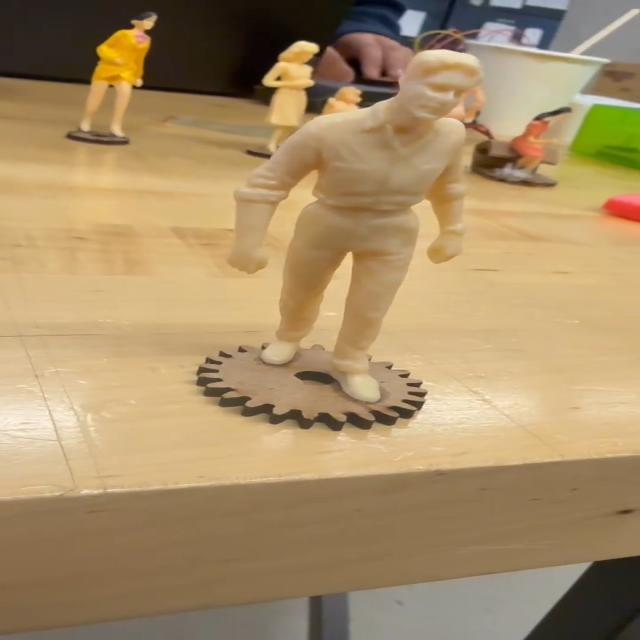Unauthorized: (227, 39, 489, 403)
